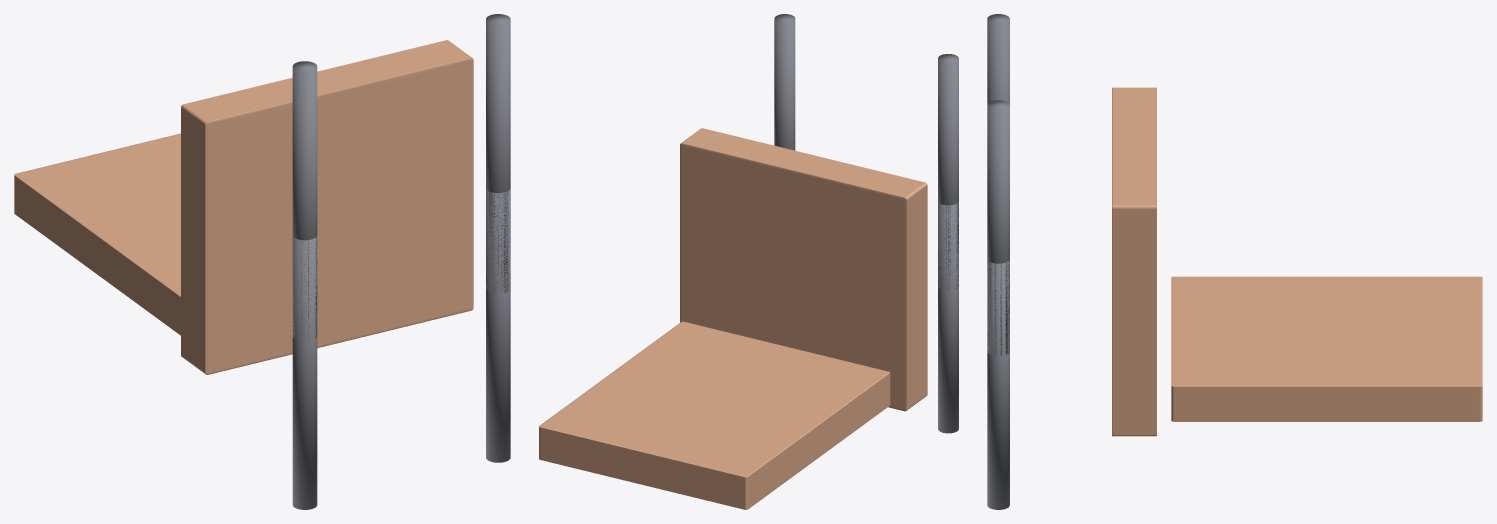
The model's file is chair.glb.
The picture shows the model from 3 angles, left to right: view 1: azimuth 30°, elevation 25°; view 2: azimuth 150°, elevation 25°; view 3: azimuth 270°, elevation 25°; orthographic projection. The views are drawn at different scales.
Visible parts, largest first — view 1: seat, back, leg_-0.18_back, leg_0.18_back, leg_0.18_front, leg_-0.18_front; view 2: seat, back, leg_-0.18_back, leg_-0.18_front, leg_0.18_front; view 3: back, seat, leg_0.18_back, leg_0.18_front, leg_-0.18_front.
Part boxes in pixels (<box>): seat: <box>181,40,473,374</box>; back: <box>14,133,180,335</box>; leg_-0.18_back: <box>292,237,317,509</box>; leg_0.18_back: <box>486,189,510,462</box>; leg_0.18_front: <box>486,14,510,293</box>; leg_-0.18_front: <box>292,61,317,340</box>; seat: <box>680,128,927,411</box>; back: <box>539,321,890,509</box>; leg_-0.18_back: <box>938,202,958,433</box>; leg_-0.18_front: <box>938,54,958,290</box>; leg_0.18_front: <box>774,14,795,150</box>; back: <box>1171,276,1482,421</box>; seat: <box>1112,87,1156,436</box>; leg_0.18_back: <box>987,260,1009,509</box>; leg_0.18_front: <box>987,100,1009,355</box>; leg_-0.18_front: <box>987,14,1009,104</box>.
Size of the model in its own units: 0.5 by 0.78 by 0.875.
